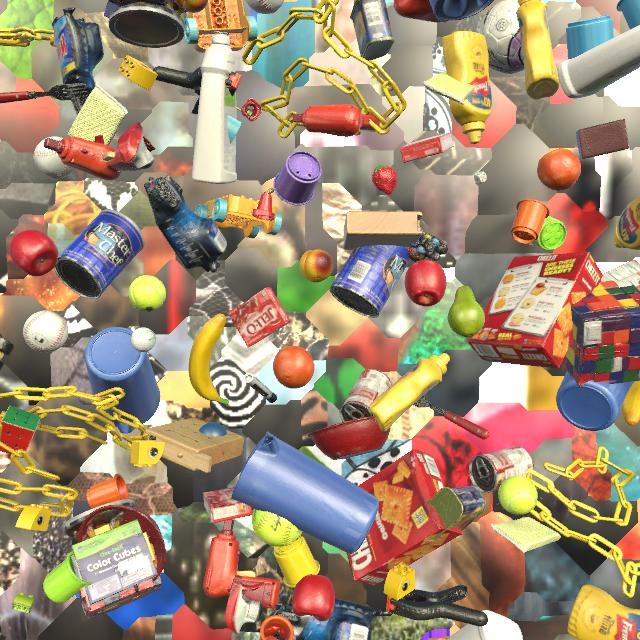ycb_002_master_chef_can: (54, 209, 145, 299), (329, 245, 411, 318)
ycb_003_cracker_box: (467, 252, 603, 369), (347, 449, 462, 586)
ycb_005_tomato_soup_can: (469, 446, 534, 493), (339, 369, 392, 422)
ycb_006_mustard_bottle: (368, 353, 450, 432), (442, 31, 492, 144), (516, 0, 560, 100), (567, 585, 640, 640), (614, 195, 640, 250)
ycb_009_gelatin_box: (227, 287, 291, 347), (203, 487, 253, 523), (400, 132, 454, 163), (600, 259, 640, 290)
ycb_010_potted_meat_can: (424, 486, 486, 542), (350, 0, 394, 61)
ycb_011_banana: (189, 314, 229, 405), (621, 381, 640, 426)
ycb_012_strawberry: (372, 165, 397, 195)
ycb_013_apple: (9, 230, 58, 276), (292, 574, 335, 621), (405, 260, 446, 306)
ycb_015_peach: (299, 249, 334, 283), (174, 0, 208, 13)
ycb_016_pear: (448, 286, 485, 337)
ycb_017_orange: (537, 148, 581, 191), (273, 346, 315, 389)
